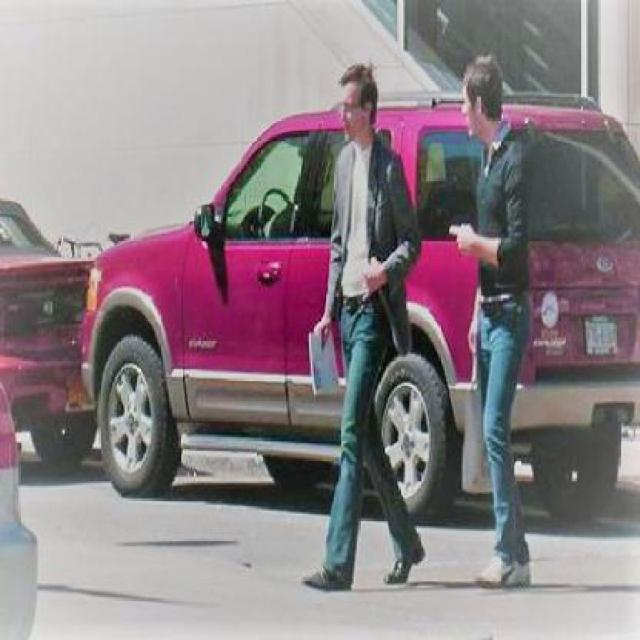Person: (308, 62, 430, 590), (449, 50, 540, 593)
